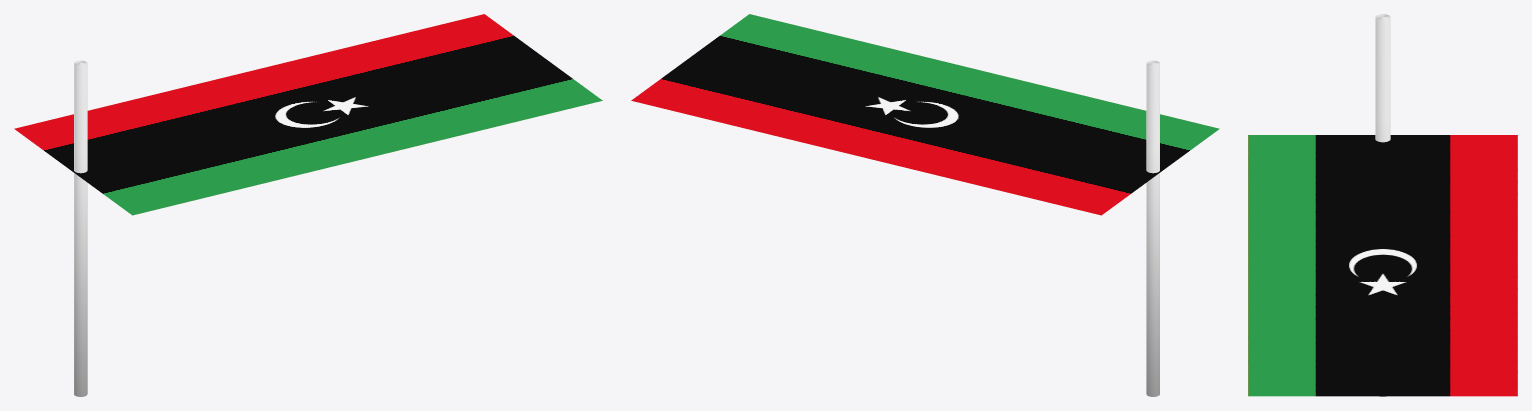
File: Flag_Libya.glb
3 renders of one model, left to right at view 1: azimuth 30°, elevation 25°; view 2: azimuth 150°, elevation 25°; view 3: azimuth 270°, elevation 25°, orthographic. The views are drawn at different scales.
Parts seen in each view (by area): view 1: Base_Flag, Base_Pole; view 2: Base_Flag, Base_Pole; view 3: Base_Flag, Base_Pole.
Boxes of the visible parts, x1,y1,x2,y2 form: Base_Flag: [14, 14, 602, 215]; Base_Pole: [74, 60, 87, 396]; Base_Flag: [631, 14, 1219, 215]; Base_Pole: [1146, 60, 1159, 396]; Base_Flag: [1248, 135, 1517, 396]; Base_Pole: [1375, 14, 1390, 396].
Size of the model in its own units: 4.76 by 3.2 by 2.07.
Materials: 2 (2 with a texture image).
